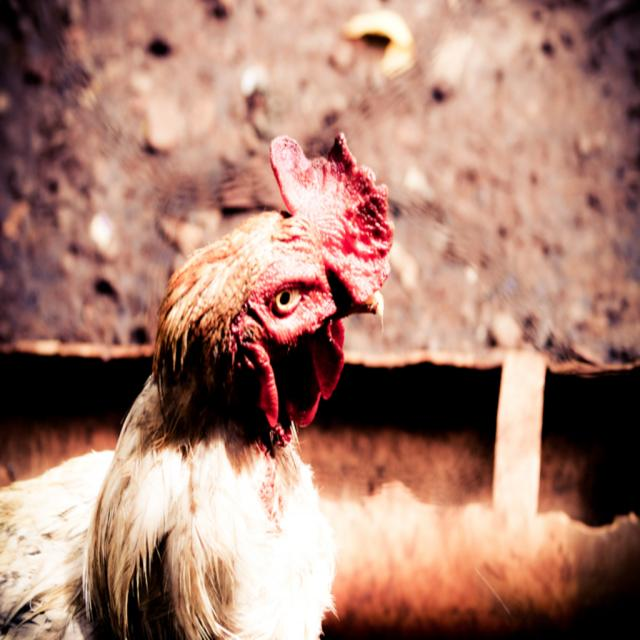Chicken: (0, 131, 390, 639)
